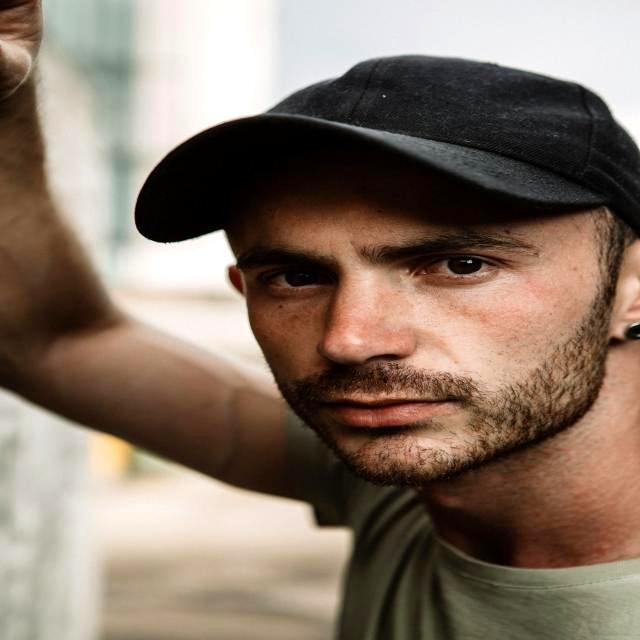no_hard_hat: (126, 52, 639, 246)
person: (0, 0, 640, 640)
